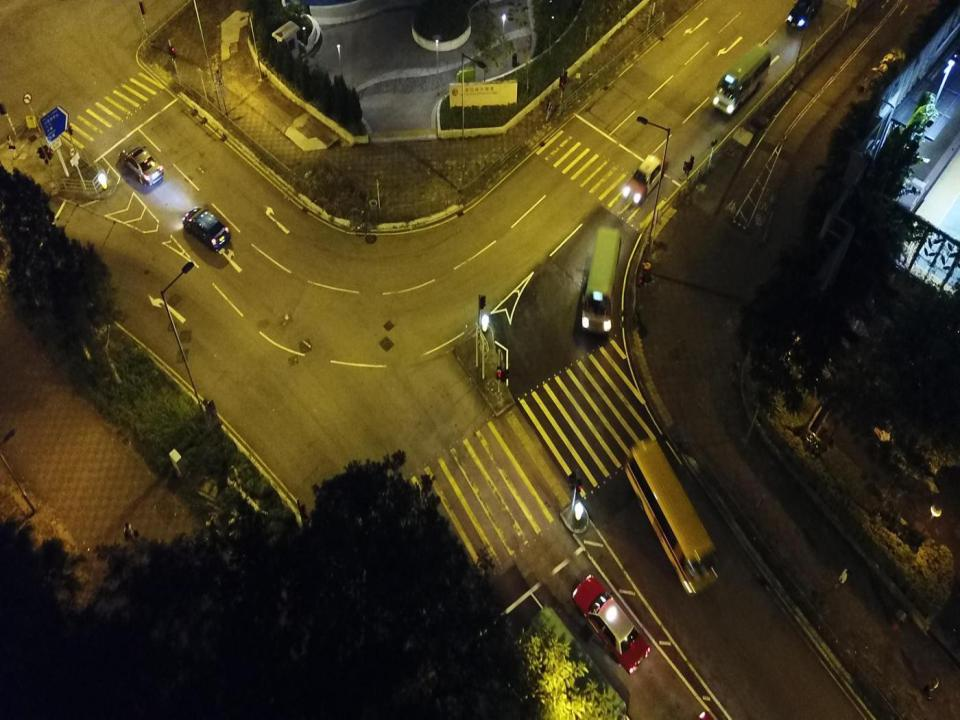bus: (623, 438, 721, 596), (711, 41, 772, 116), (582, 225, 623, 334)
car: (572, 574, 651, 675), (623, 150, 669, 205), (182, 206, 231, 251), (119, 144, 164, 186), (786, 0, 823, 30)
